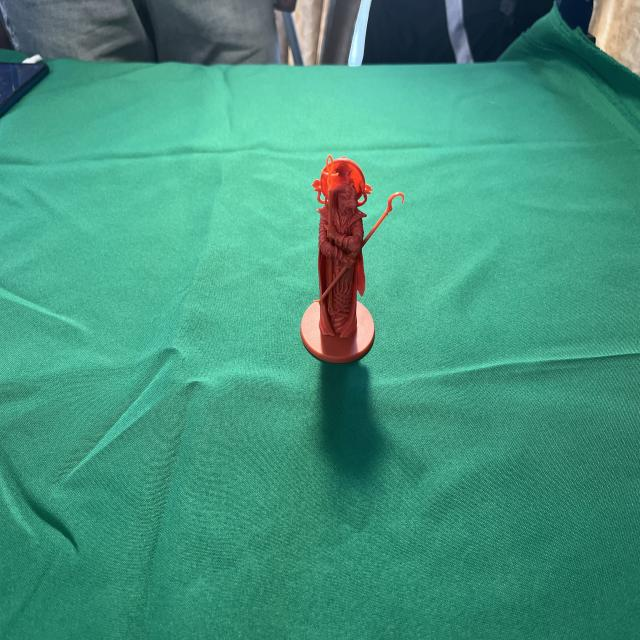amon: (299, 152, 409, 378)
